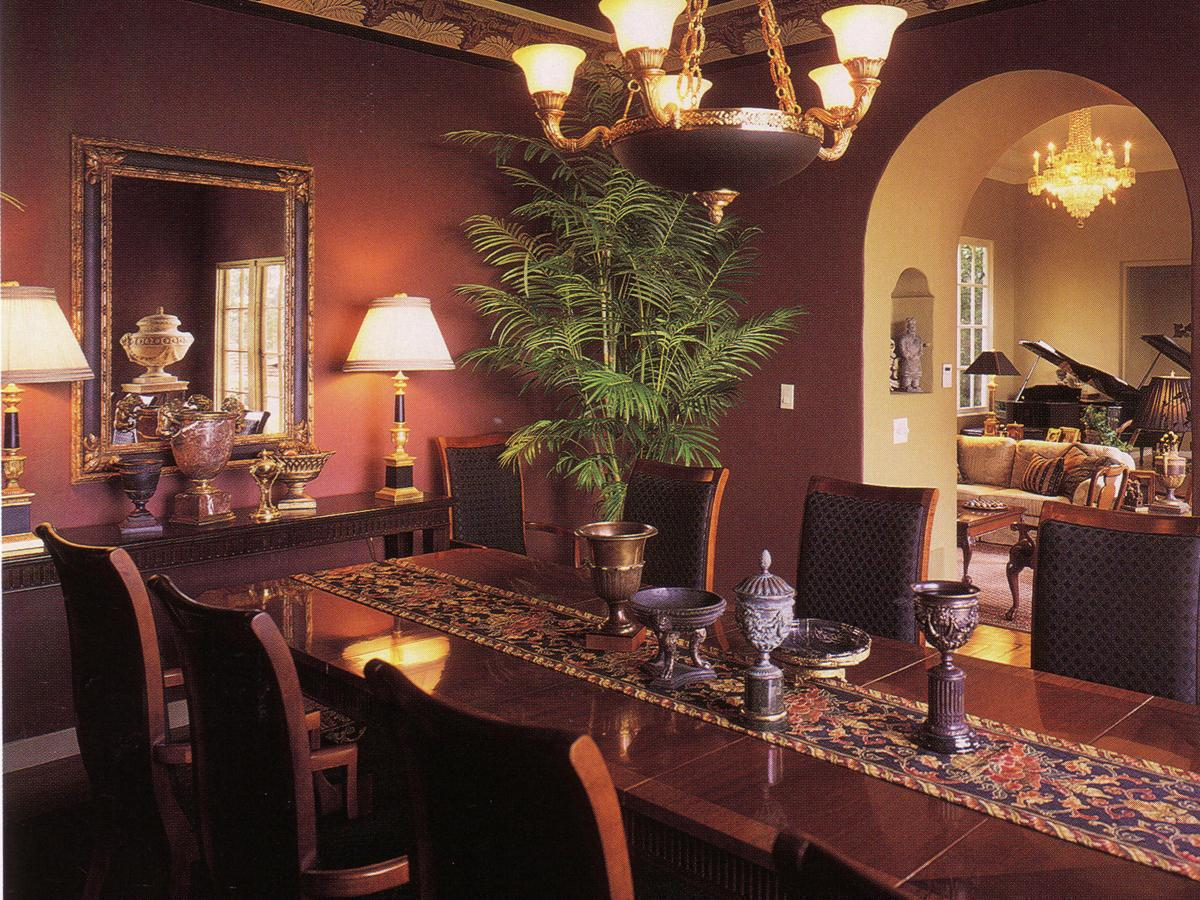Matera: (442, 57, 801, 754)
